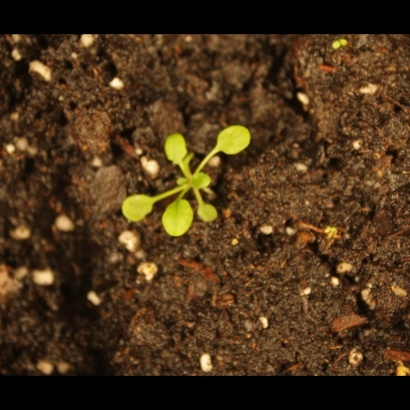leaf: (160, 191, 196, 239), (212, 123, 254, 160), (115, 192, 156, 226), (160, 132, 195, 166), (196, 202, 223, 226), (190, 170, 213, 193)
